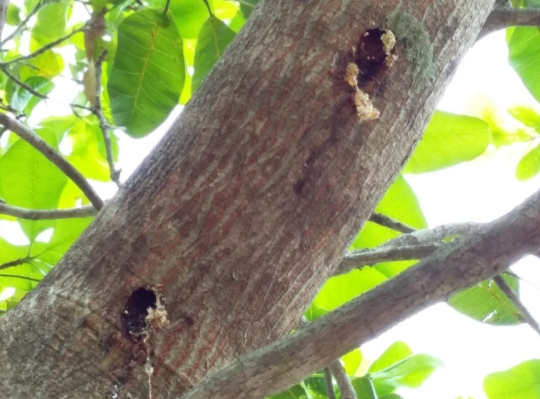Apate terebrans: (327, 20, 433, 116), (103, 274, 176, 348)
